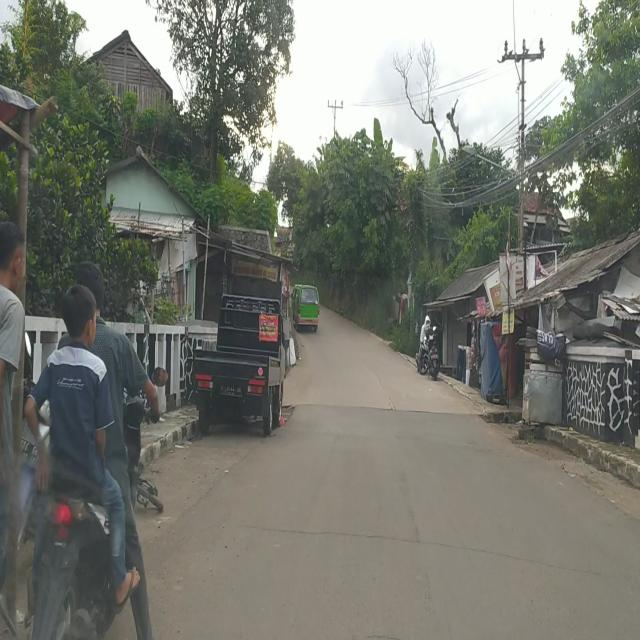Sewer Cover: (233, 526, 628, 578)
